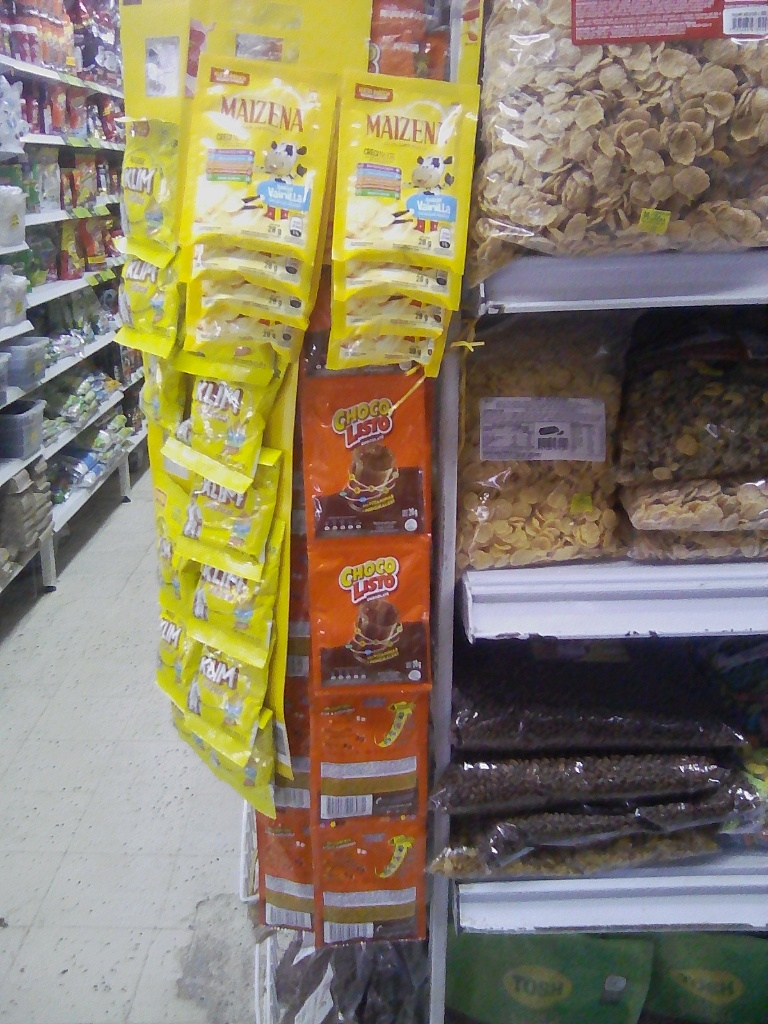COL0170103SOB02000: (304, 375, 432, 537)
